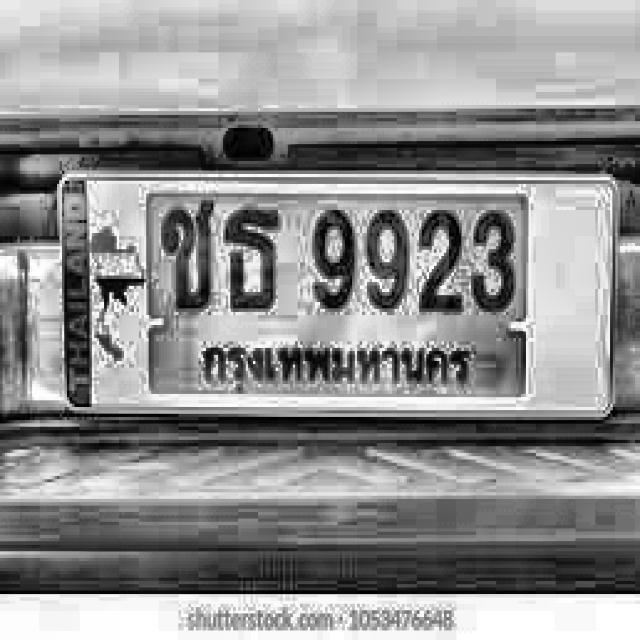license-plate: (44, 163, 626, 450)
